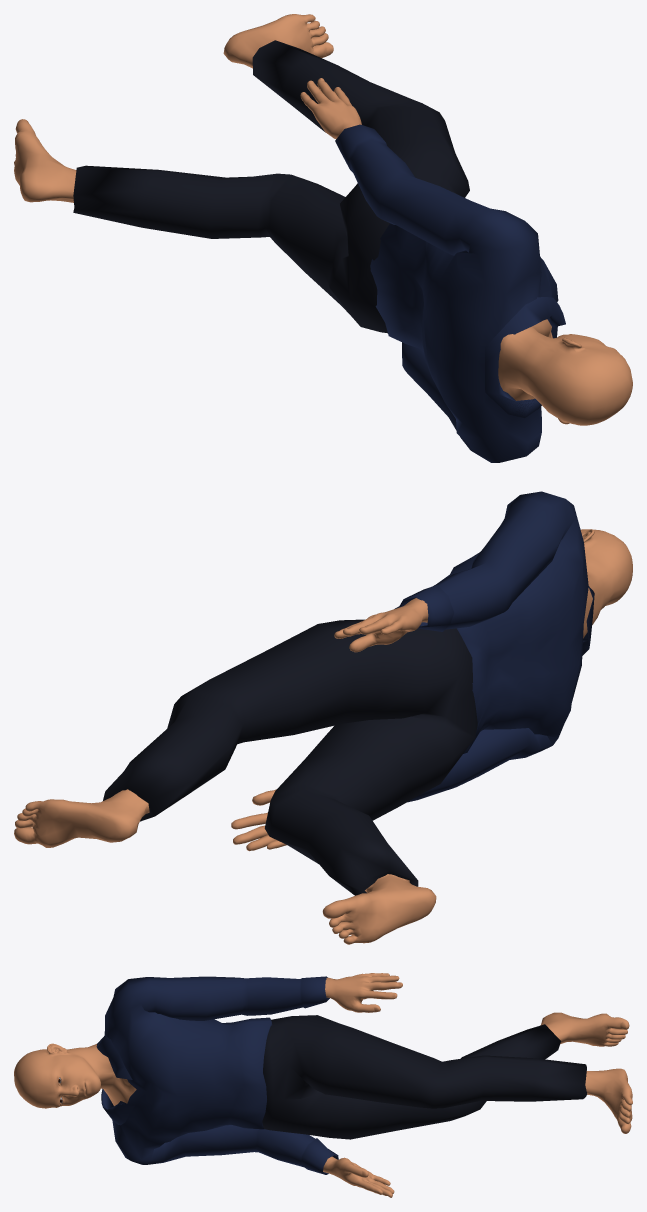
File: walk.obj
The picture shows the model from 3 angles, top to bottom: view 1: azimuth 30°, elevation 25°; view 2: azimuth 150°, elevation 25°; view 3: azimuth 270°, elevation 25°; orthographic projection. The views are drawn at different scales.
Bounding box in the file's own units: 0.8008 × 0.5348 × 1.67.
